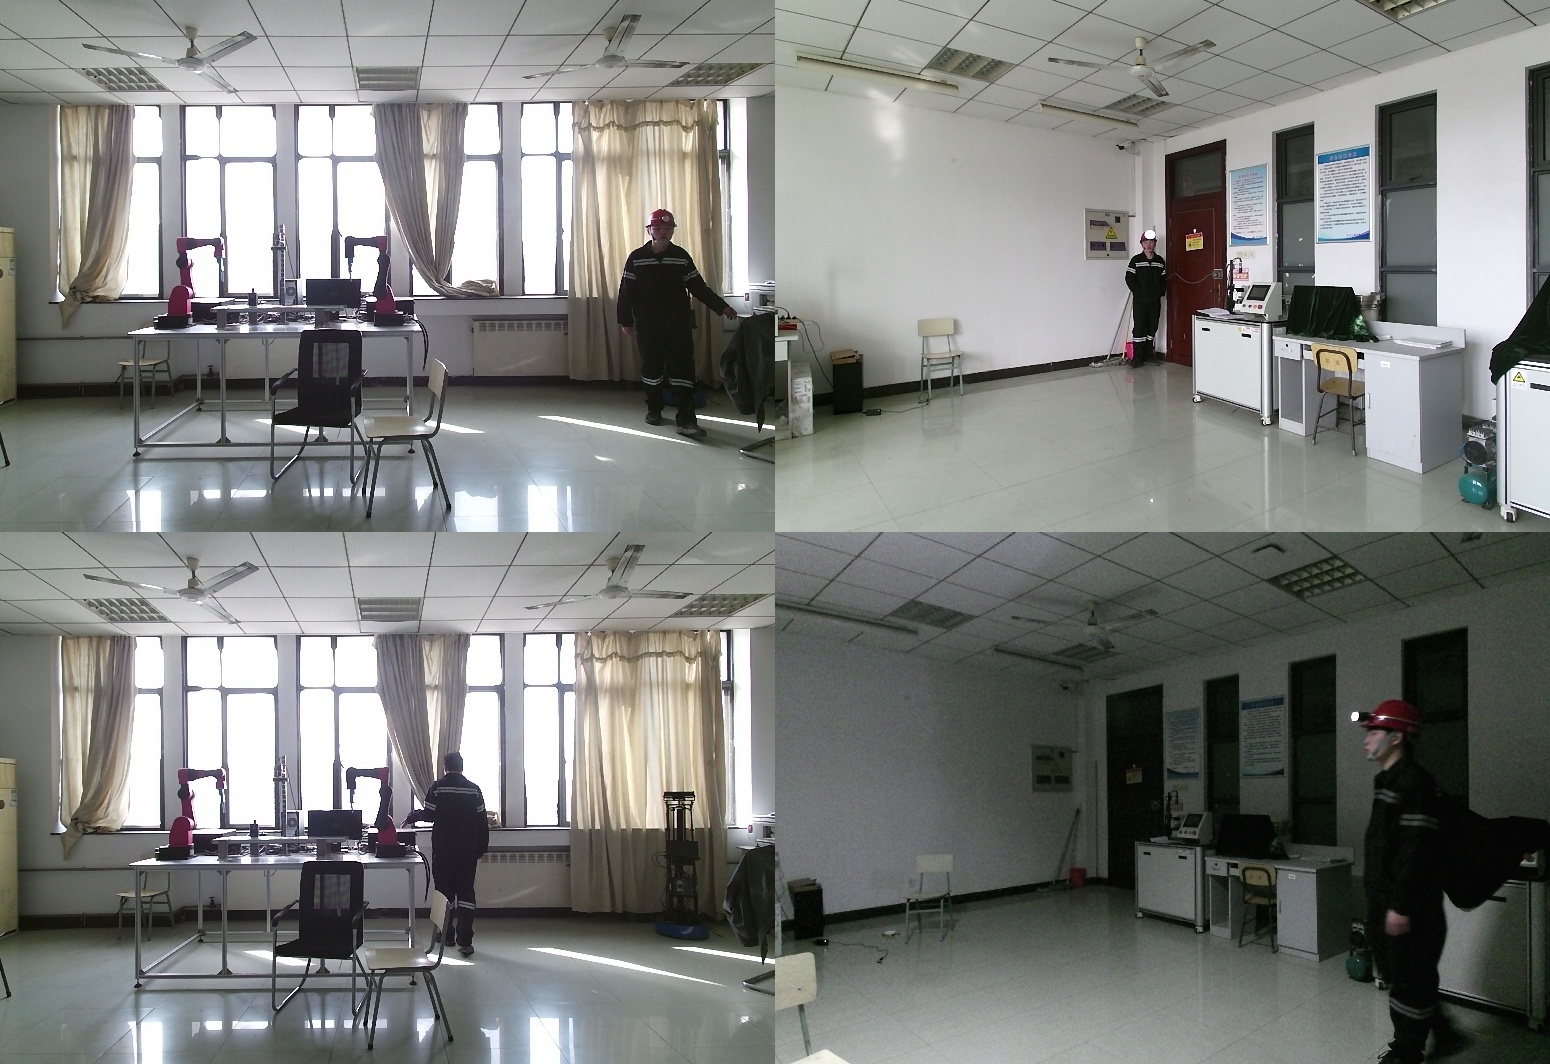person: (1359, 697, 1470, 1061), (620, 209, 725, 433), (404, 749, 496, 966), (1124, 234, 1168, 367)
